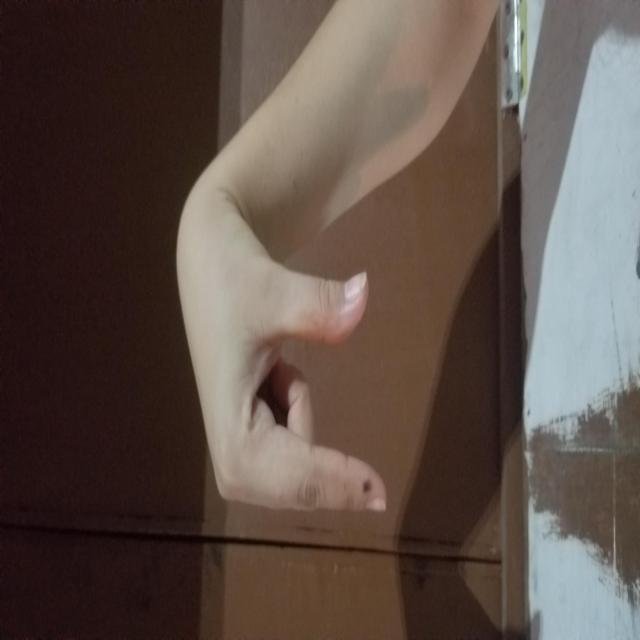Q: (123, 175, 434, 387)
